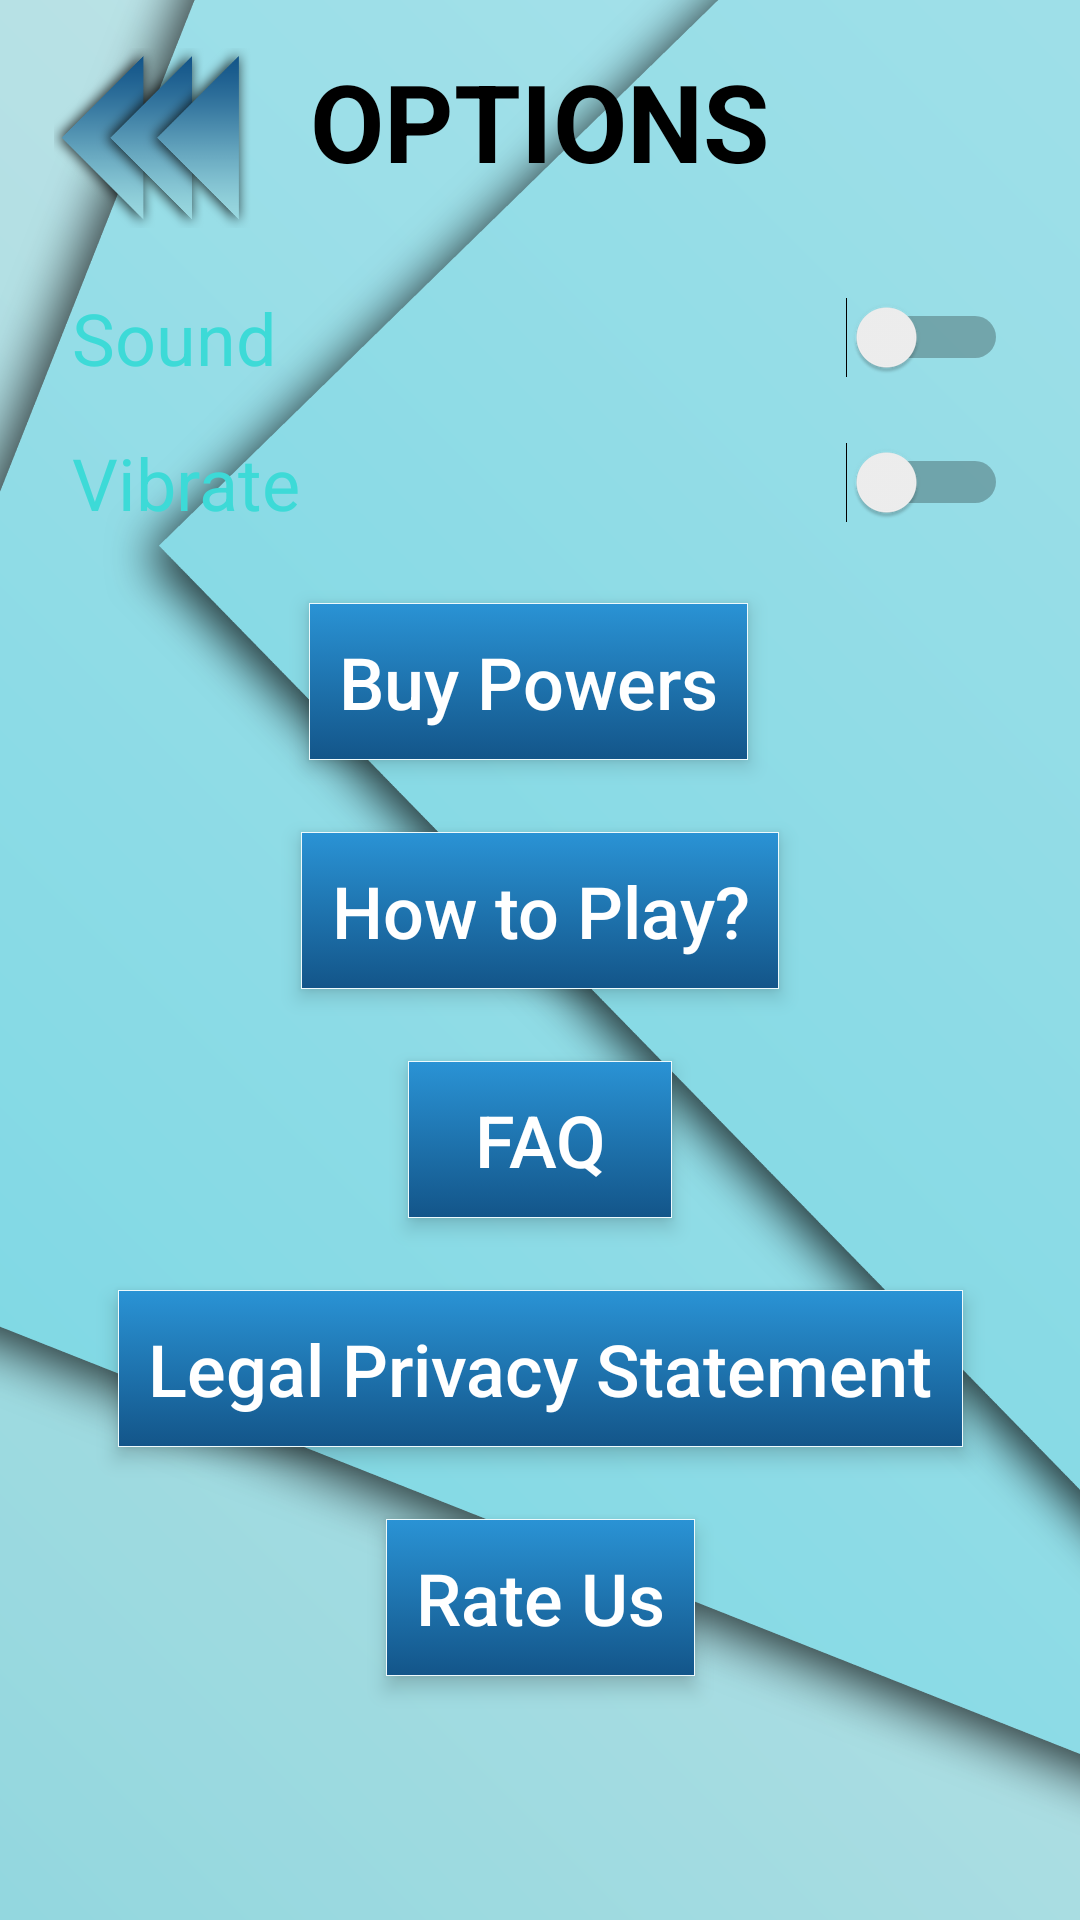

Icon bounding boxes for this 1080w x 1920h phone screenshot, format (x1, y1, x2, y2):
back: (48, 48, 245, 228)
